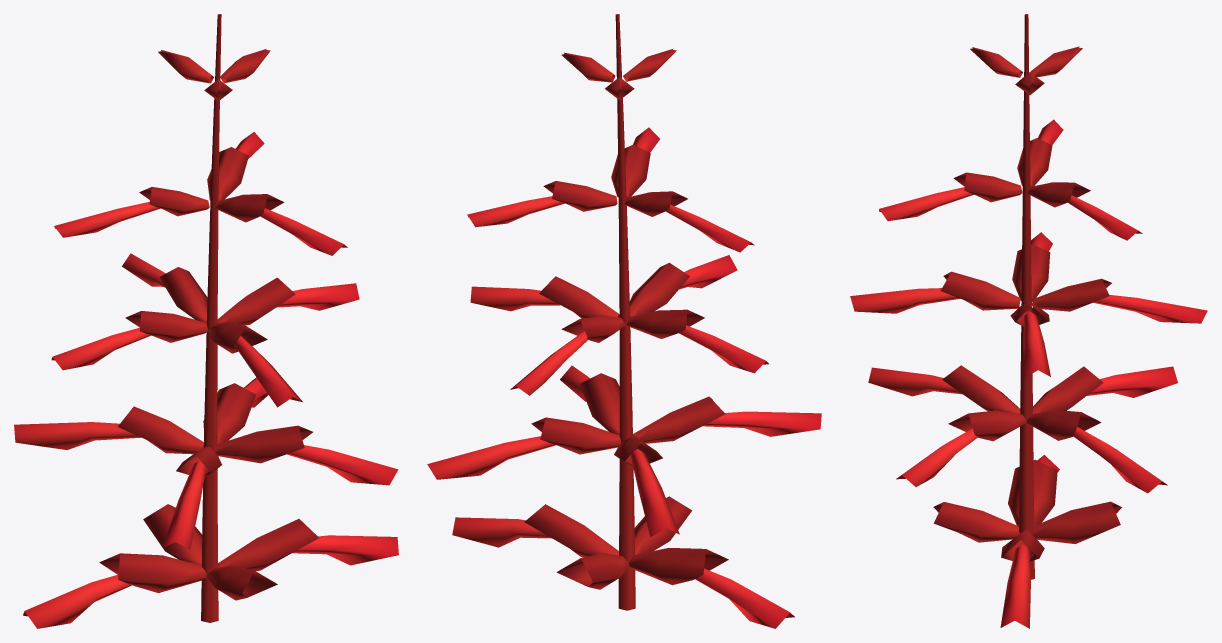
Rendered from salvia_lod2.glb.
3 views of the same model, side by side, from view 1: azimuth 30°, elevation 25°; view 2: azimuth 150°, elevation 25°; view 3: azimuth 270°, elevation 25° (orthographic). The views are drawn at different scales.
Visible parts, largest first — view 1: calyx, corolla; view 2: calyx, corolla; view 3: calyx, corolla.
Boxes of the visible parts, x1,y1,x2,y2 form: calyx: (99,14,318,622); corolla: (14,132,398,628); calyx: (524,14,728,610); corolla: (427,127,821,628); calyx: (933,14,1121,579); corolla: (850,119,1207,628).
Size of the model in its own units: 0.0734 by 0.118 by 0.0675.
Materials: 2 (2 with a texture image).
